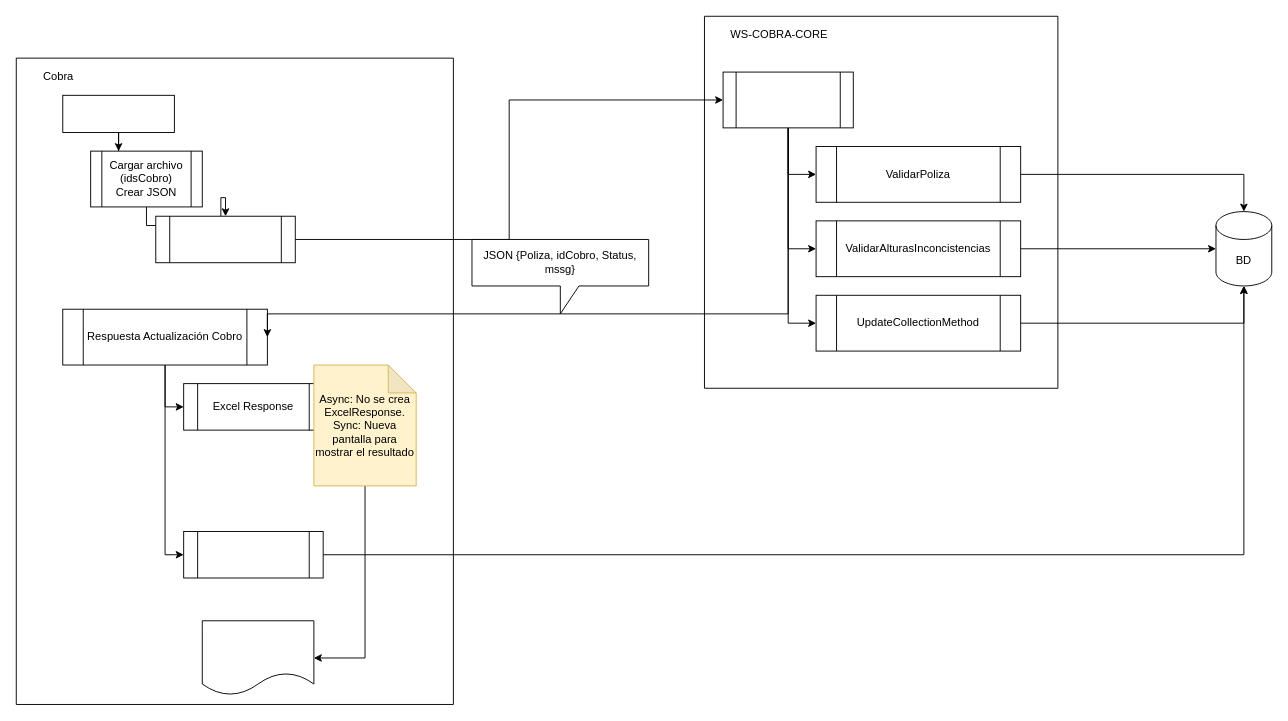
Image size: 1288x721. Some labels were removed from this diagram. Here are the shapes that lost their labels. From the top down, the centre of each, then its label:
At (118,113): "Cambio Estado Cobro".
At (787,99): "UpdatePaymentState".
At (225,239): "ValidaciónEstructura".
At (253,554): "Auditoria".
At (257,657): "Vista Actualización Cobro".
